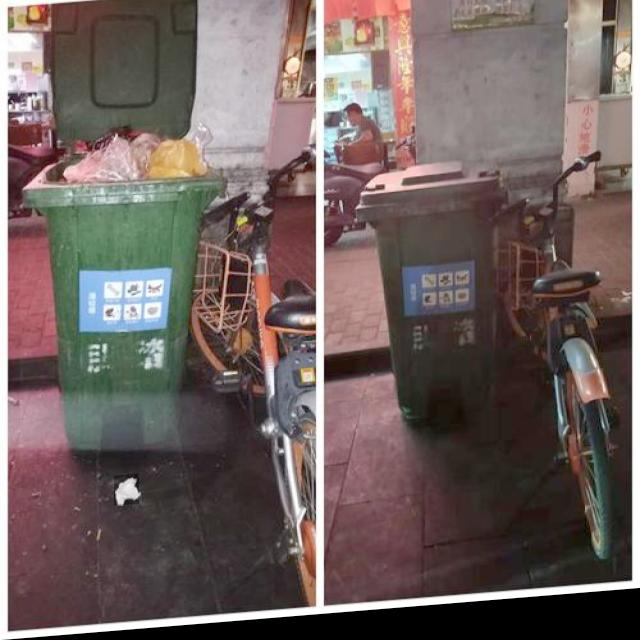garbage: (114, 476, 139, 508)
garbage_bin: (352, 164, 509, 428)
overflow: (20, 124, 226, 460)
